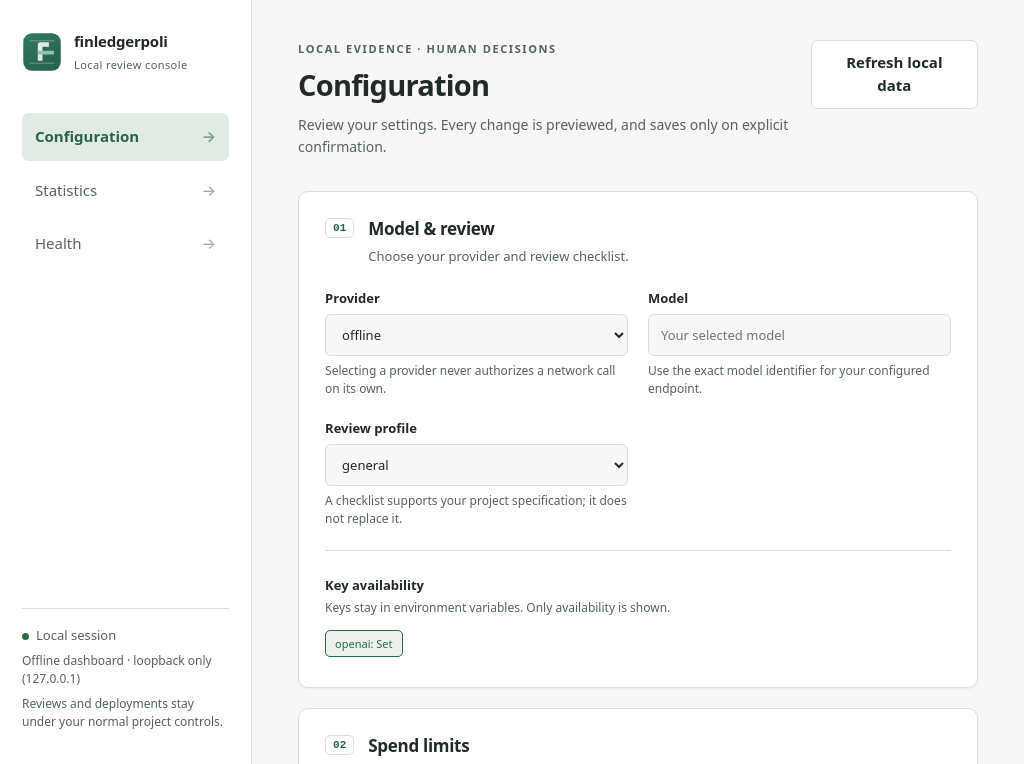
it: shows statistics coverage and health through keyboard-accessible navigation
This screenshot has width=1024, height=764.
expect the field labelled "Model" is shown: met, box [648,314,951,356]
Click the button "Statistics →".
click(126, 190)  # box [22,166,229,214]
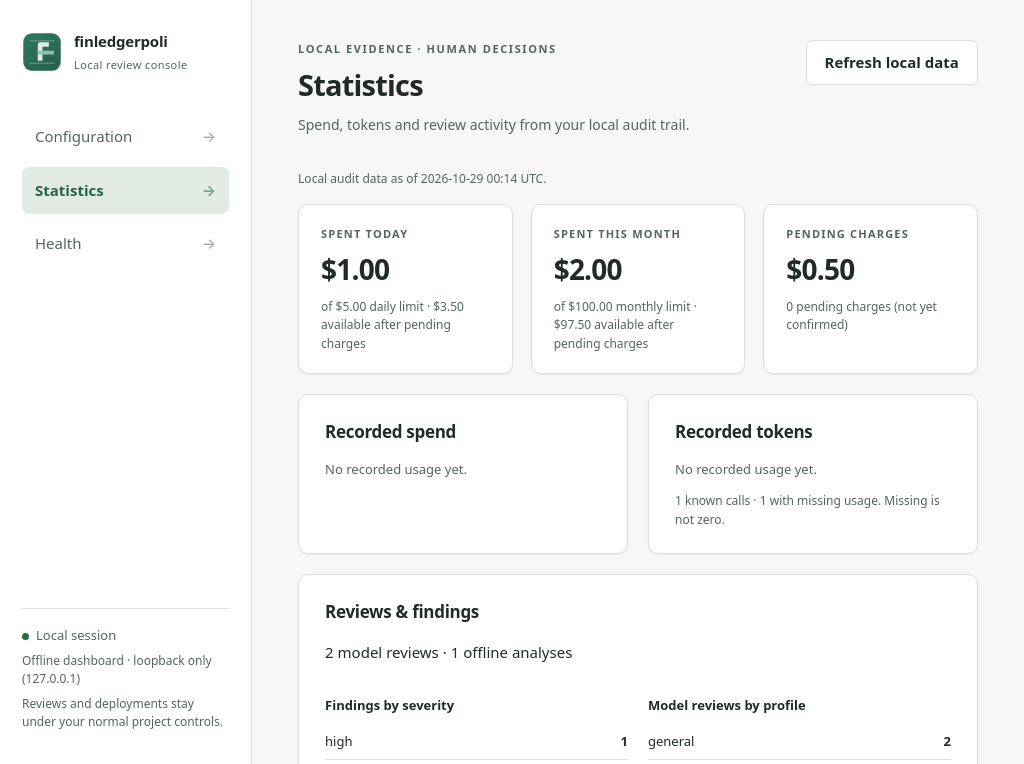
expect the heading "Reviews & findings" is shown: met, box [325,600,479,623]
expect the number of headings "Pending charges" is 2: met
expect the text "0 pending charges (not yet confirmed)" is shown: met, box [786,298,955,335]
Click the button "Health →".
click(126, 243)  # box [22,220,229,267]
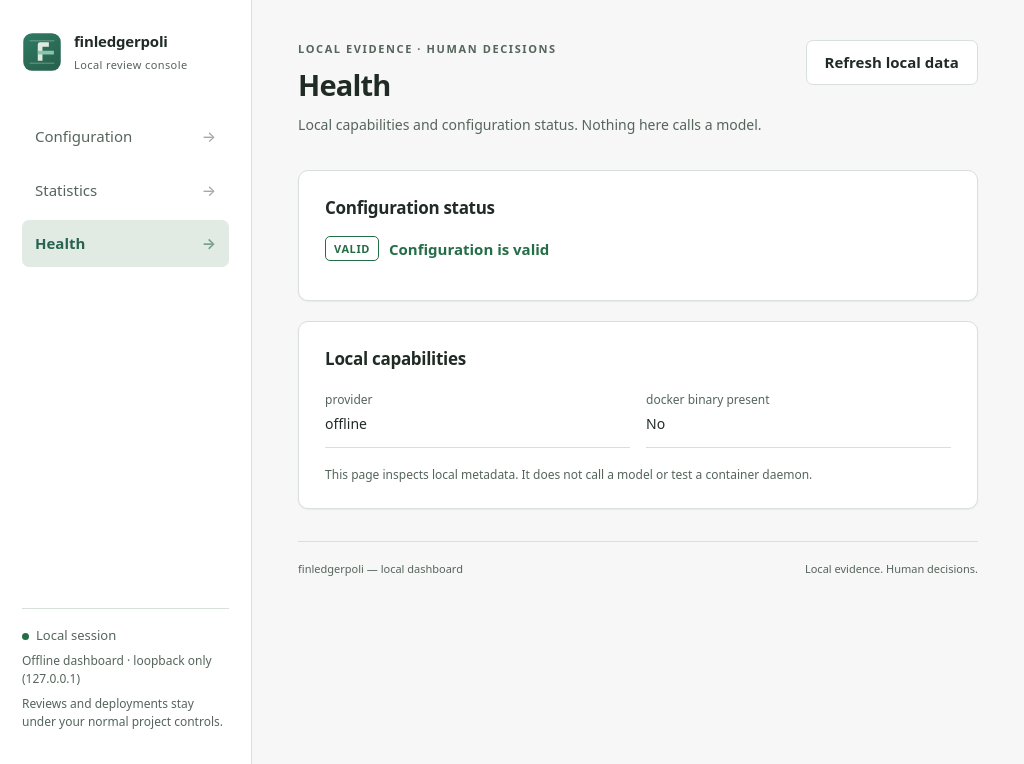
expect the text "Configuration is valid" is shown: met, box [389,239,549,259]
